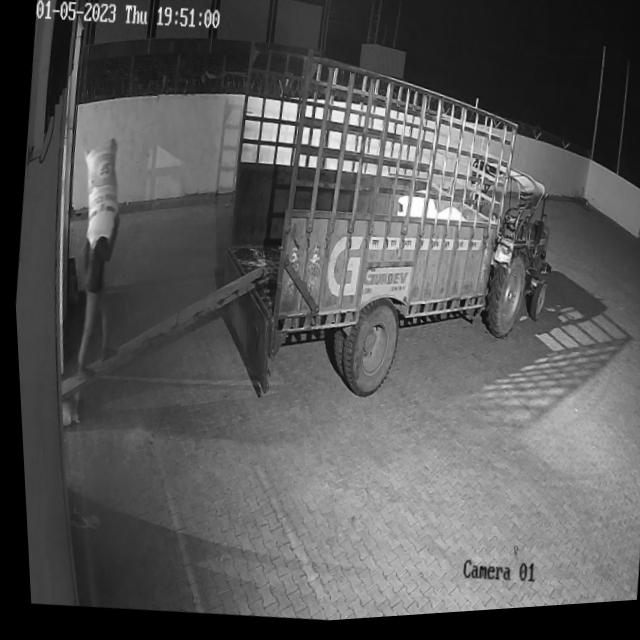sack: (69, 136, 126, 252)
